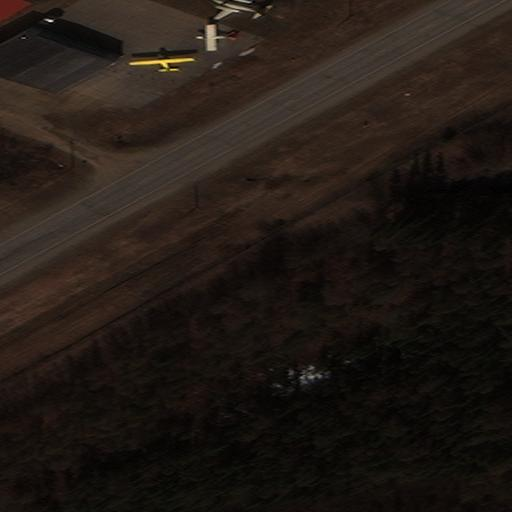Small Civil Transport: (128, 53, 194, 72), (210, 0, 264, 19), (195, 24, 232, 51)
